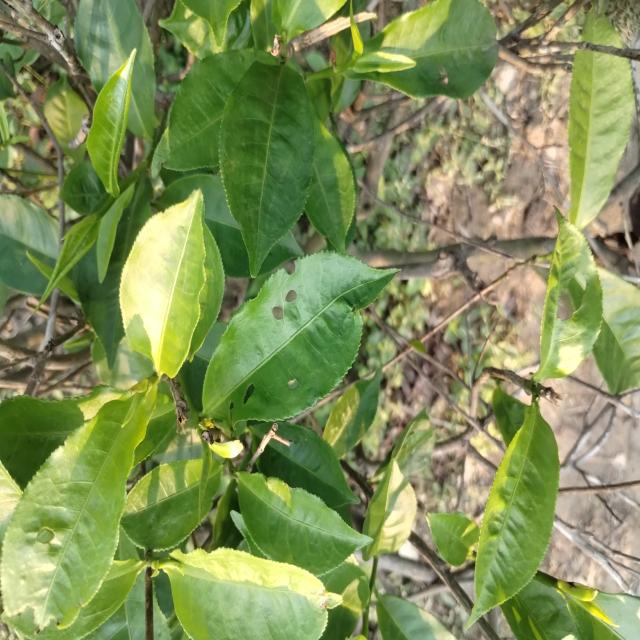Leaf: (0, 393, 146, 629), (201, 252, 395, 425), (467, 401, 559, 627), (219, 62, 314, 277), (160, 547, 339, 640), (119, 191, 205, 377), (71, 178, 152, 367), (237, 472, 371, 575), (360, 0, 498, 99), (152, 50, 257, 177), (0, 385, 126, 489), (533, 208, 602, 381), (568, 51, 634, 228), (74, 0, 157, 140), (156, 173, 250, 278), (31, 558, 144, 640), (121, 459, 221, 550), (257, 422, 360, 509), (87, 49, 136, 197), (305, 118, 355, 252), (593, 268, 640, 395), (0, 194, 57, 296), (362, 459, 417, 560), (324, 368, 381, 458), (500, 578, 580, 640), (373, 409, 436, 481), (45, 214, 99, 293), (320, 559, 369, 640), (43, 75, 88, 162), (377, 593, 455, 640), (97, 185, 134, 283), (566, 592, 640, 640), (159, 0, 219, 59), (133, 390, 175, 465), (426, 511, 479, 566), (60, 162, 108, 215), (186, 0, 241, 46), (277, 0, 345, 35), (491, 386, 528, 446), (260, 231, 302, 273), (583, 10, 620, 48), (250, 0, 276, 50), (248, 421, 270, 444), (3, 613, 24, 628)
